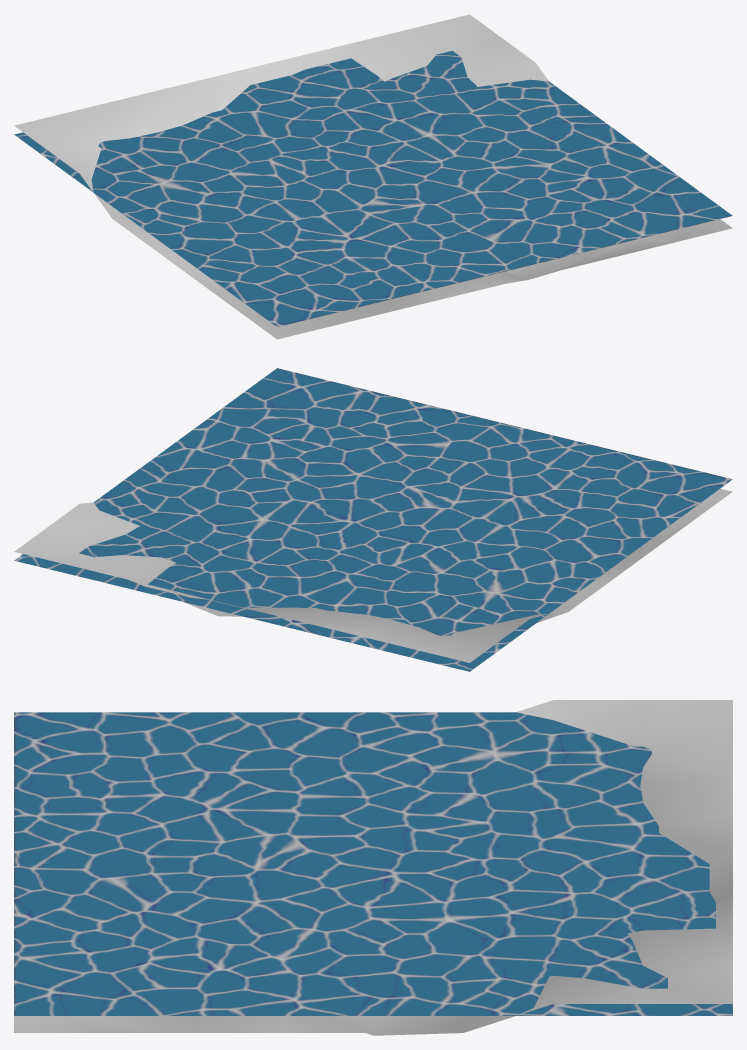
File: SideWaterTile.fbx
3 views of the same model, one above another, from view 1: azimuth 30°, elevation 25°; view 2: azimuth 150°, elevation 25°; view 3: azimuth 270°, elevation 25° (orthographic). The views are drawn at different scales.
Parts seen in each view (by area): view 1: WaterHole_Side; view 2: WaterHole_Side; view 3: WaterHole_Side.
Part boxes in pixels (bbox=[...]): WaterHole_Side: bbox=[14, 14, 732, 339]; WaterHole_Side: bbox=[14, 368, 732, 671]; WaterHole_Side: bbox=[14, 700, 732, 1035].
Bounding box in the file's own units: 100 × 19.96 × 100.
